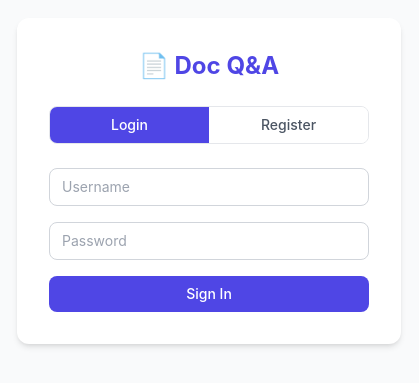
AuthPage › shows error on failed login
Type "user" into the field with placeholder "Username" at {"x": 209, "y": 187}, box [49, 168, 369, 206]
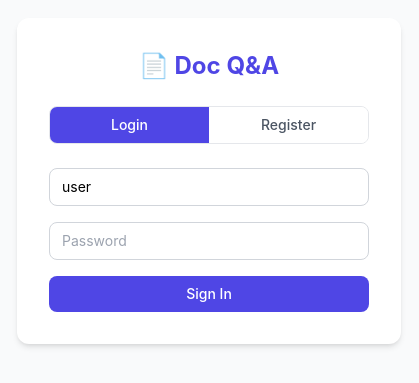
Type "wrong" into the password field with placeholder "Password" at {"x": 209, "y": 241}, box [49, 222, 369, 260]
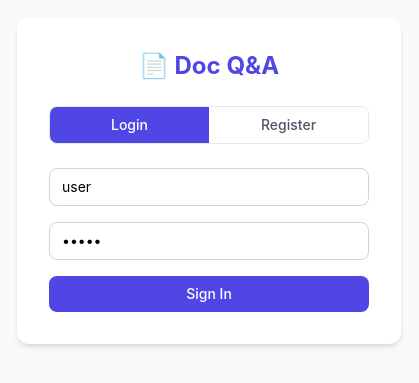
Click the button "Sign In" at {"x": 209, "y": 294}, box [49, 276, 369, 312]
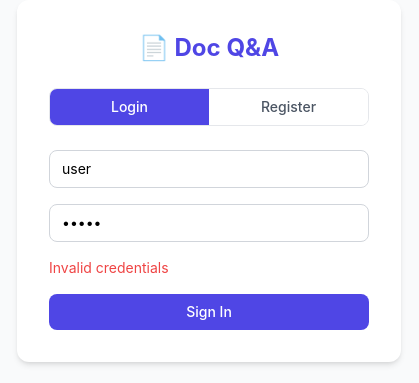
Result: the text "Invalid credentials" is shown at [49, 259, 169, 276]
